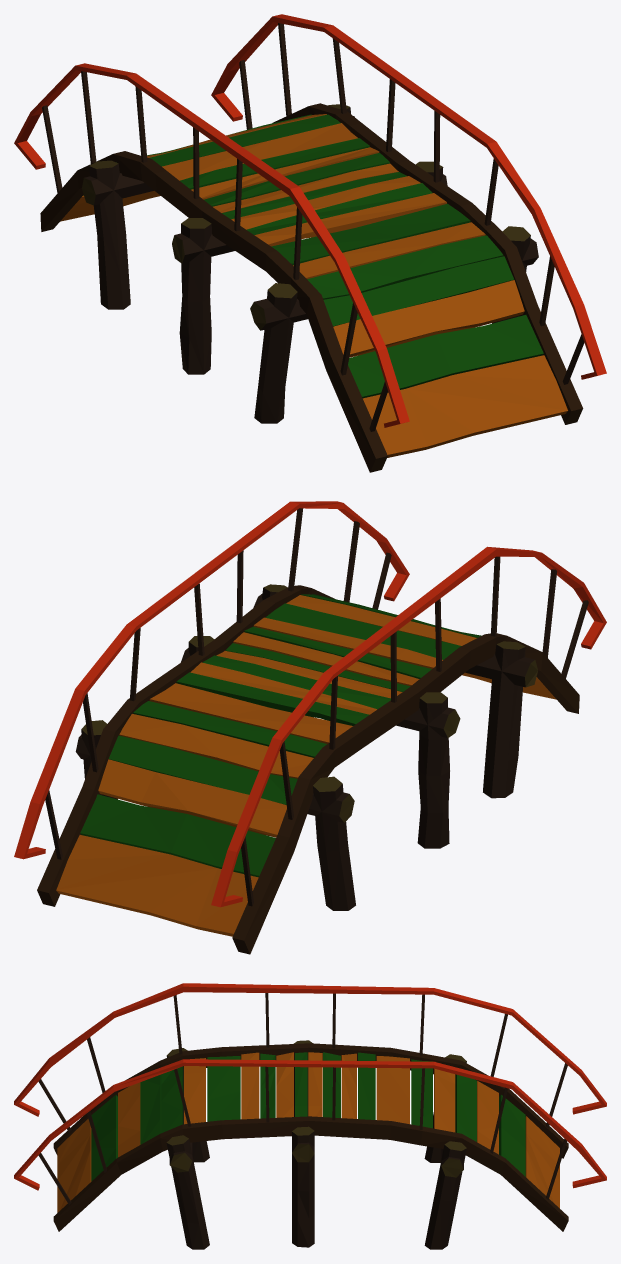
Rendered from brige c.FBX.
The picture shows the model from 3 angles, top to bottom: view 1: azimuth 30°, elevation 25°; view 2: azimuth 150°, elevation 25°; view 3: azimuth 270°, elevation 25°; orthographic projection. The views are drawn at different scales.
Visible parts, largest first — view 1: brige c; view 2: brige c; view 3: brige c.
Part boxes in pixels (left/top/right/bottom): brige c: left=14, top=14, right=606, bottom=472; brige c: left=14, top=501, right=606, bottom=954; brige c: left=14, top=983, right=606, bottom=1249.
Size of the model in its own units: 2.52 by 6.13 by 2.05.
